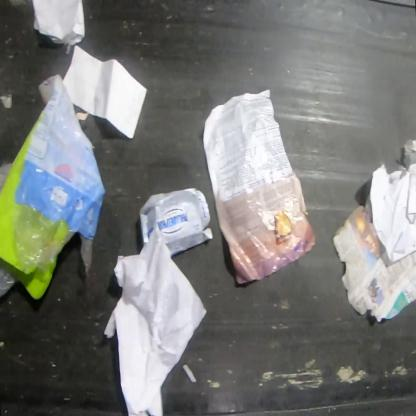cardboard: (140, 187, 214, 256)
soft_plastic: (14, 72, 108, 282), (0, 163, 19, 297)
